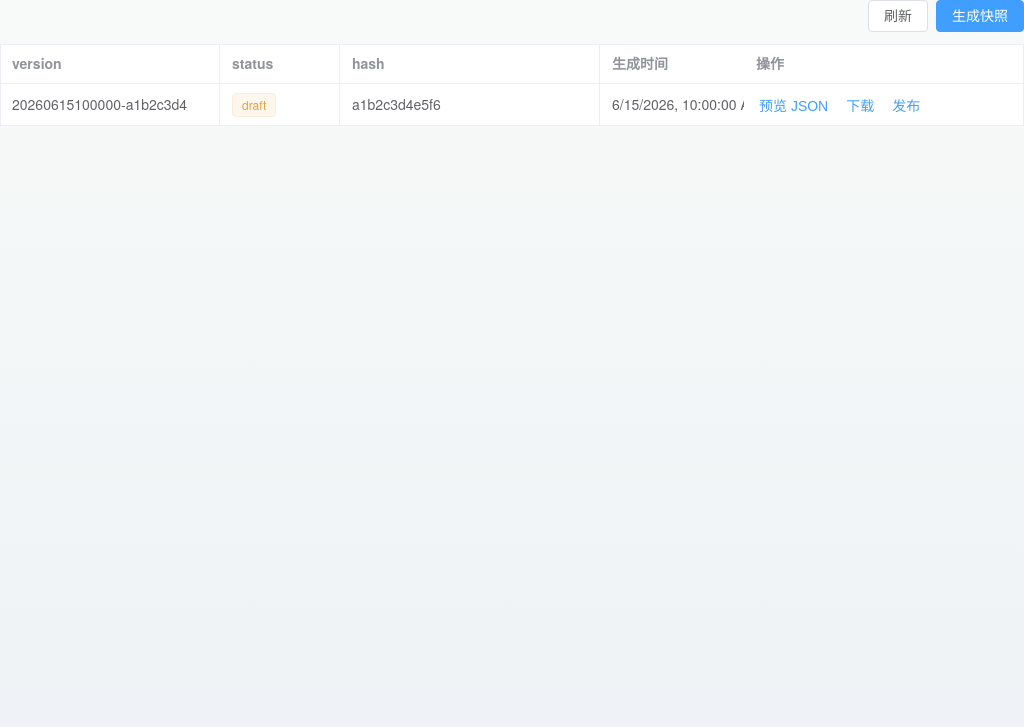
Test: SnapshotTab › JSON 预览：按 market 分区折叠展示，密文脱敏为 ***
Click the button "预览 JSON" at (794, 106), box [756,96,831,116]
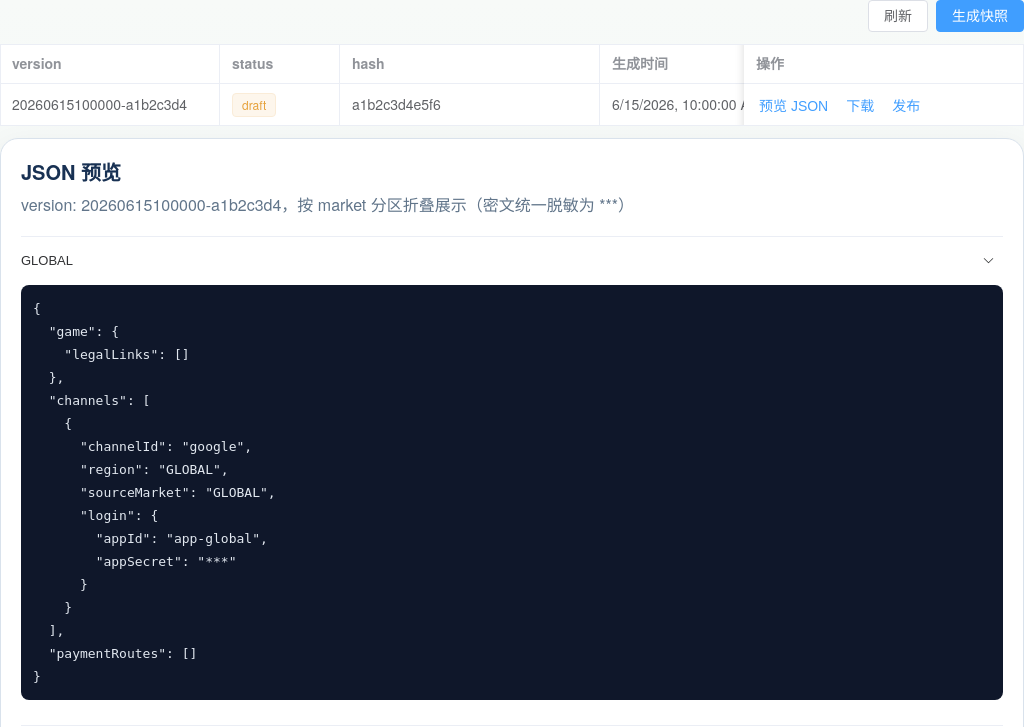
Now the text "GLOBAL" is shown, box [21,237,1003,285]
Now the text "***" is shown, box [21,193,634,216]
Now the text "app-global" is shown, box [33,301,276,684]
